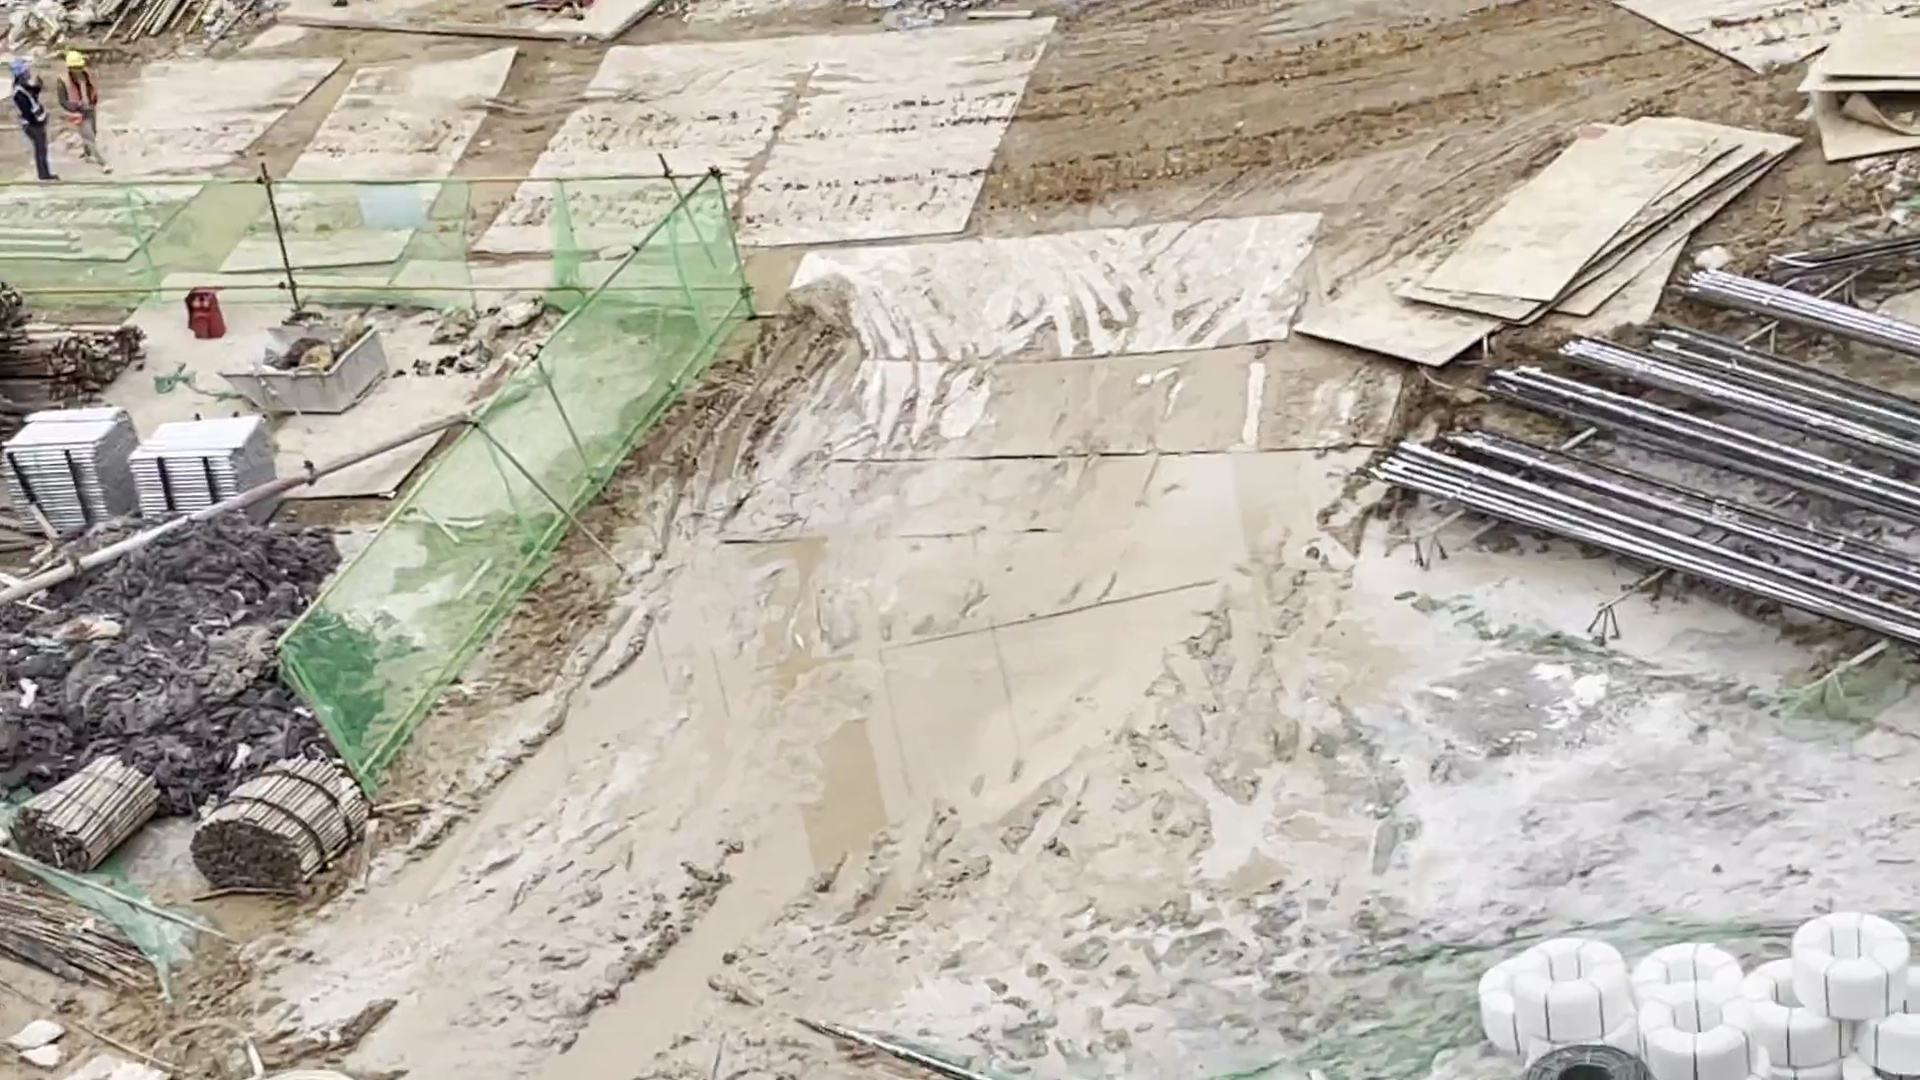helmet: (13, 55, 45, 83), (66, 44, 91, 65)
hopper: (223, 315, 389, 419)
person: (56, 40, 112, 182), (7, 50, 54, 196)
rebar: (1426, 277, 1920, 624)
scaffold: (3, 407, 286, 520)
vest: (63, 76, 105, 116), (11, 89, 46, 132)
